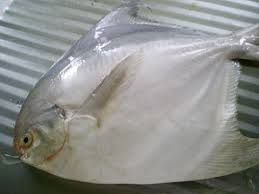Ikan Bawal: (5, 4, 256, 187)
